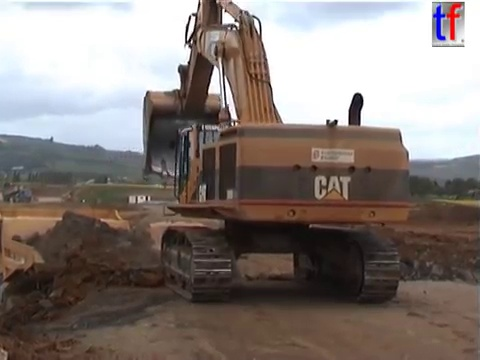excavator: (136, 1, 416, 307)
truck: (1, 205, 208, 341), (142, 218, 233, 291)
